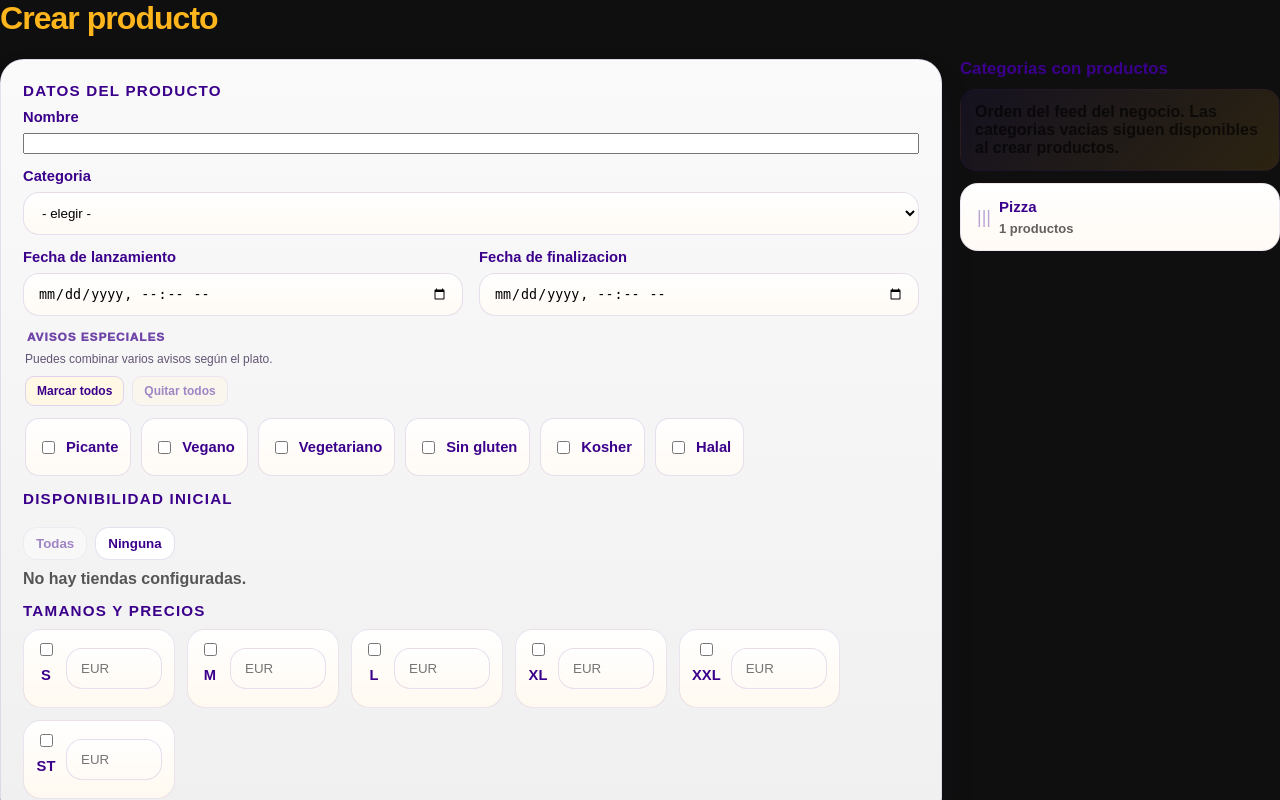
server recheck still blocks a link added after preview
Click the button "Pizza 1 productos": [1127, 217] box left=999, top=198, right=1255, bottom=236
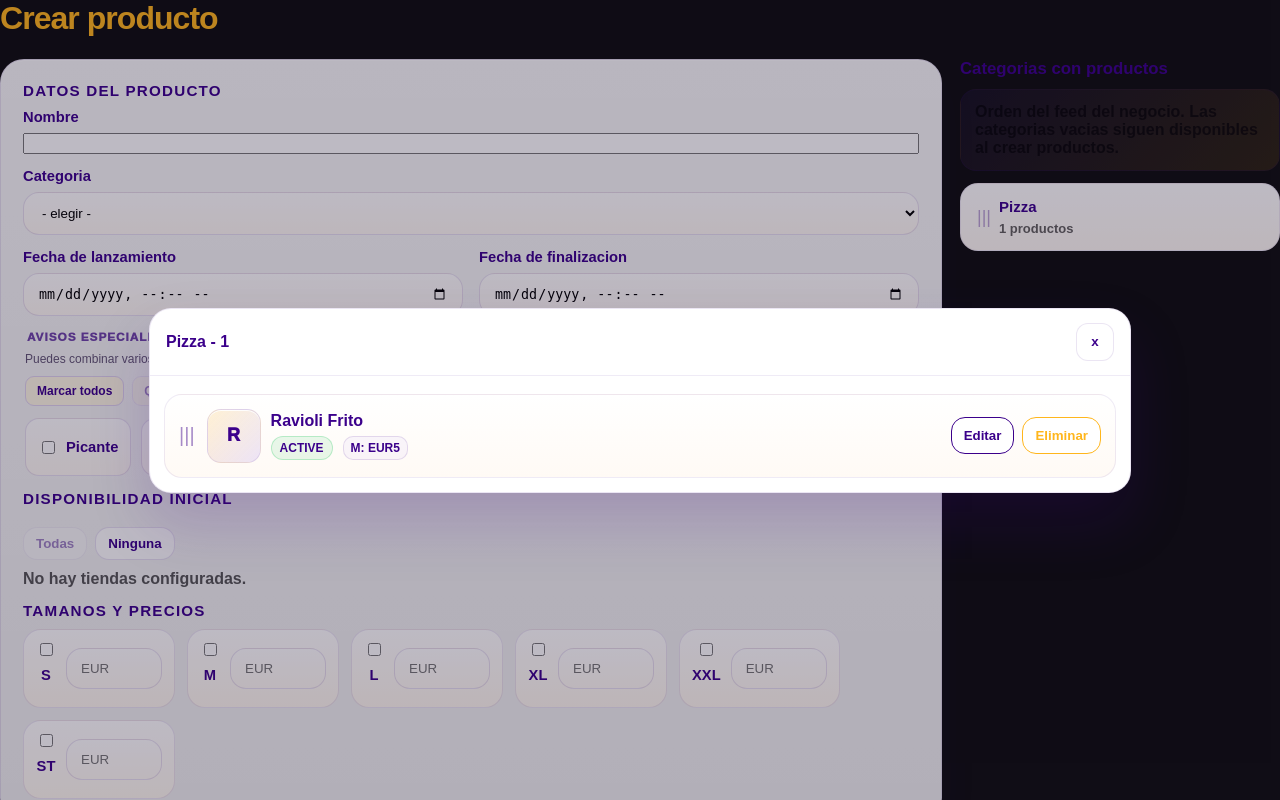
Click the button "Eliminar": [1062, 436] box left=1022, top=417, right=1101, bottom=454
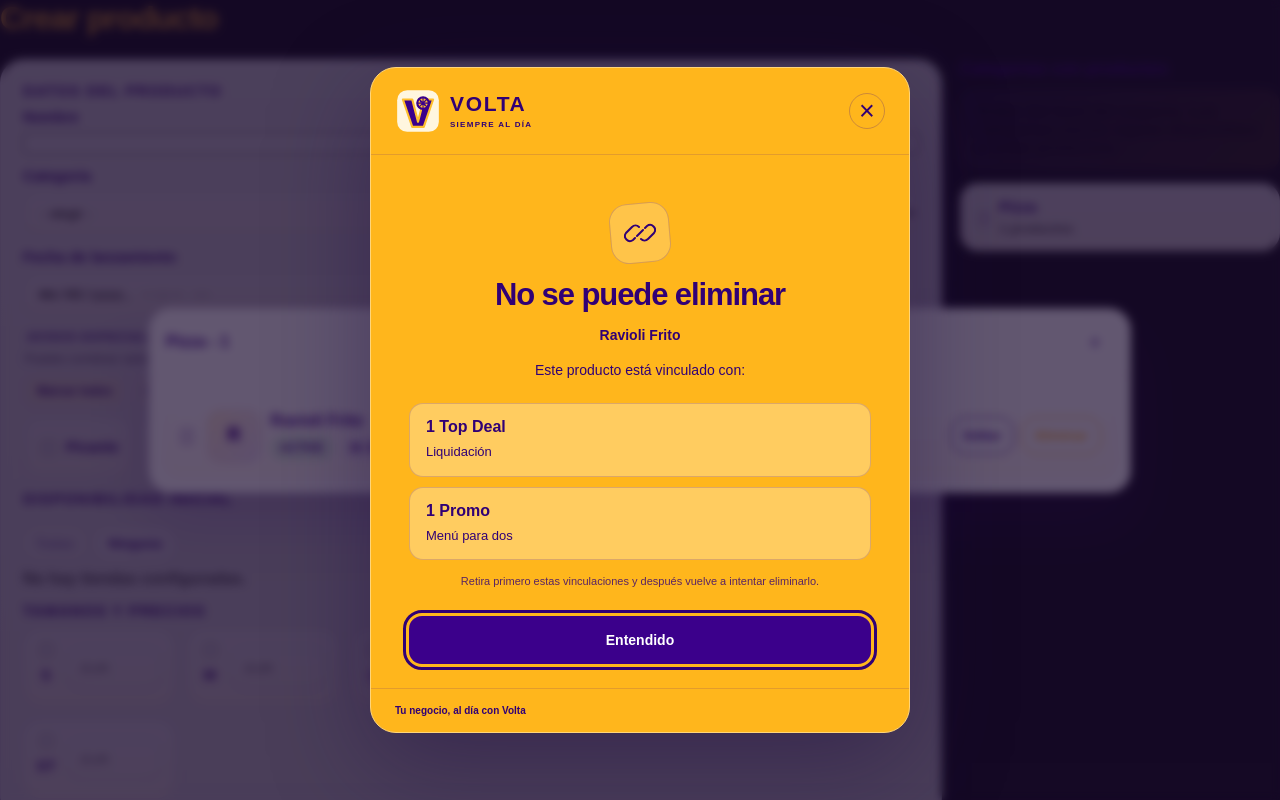
Result: the dialog that starts with "VOLTA" is shown at left=370, top=67, right=910, bottom=733
Result: the text "Menú para dos" is shown at left=426, top=528, right=513, bottom=543
